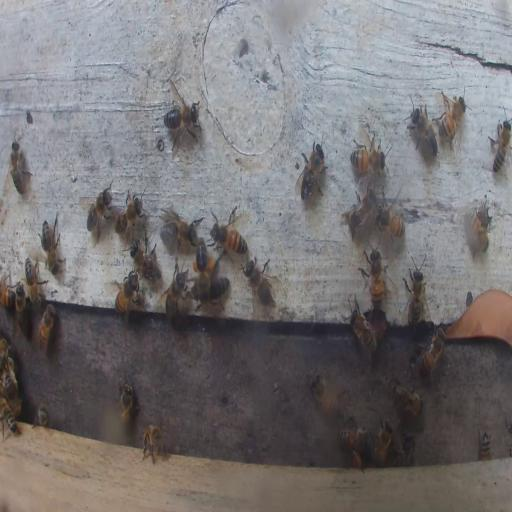nonpollenbee: (406, 97, 440, 163), (348, 294, 378, 362), (295, 139, 327, 199), (162, 99, 201, 147), (210, 208, 246, 258), (438, 92, 468, 151), (415, 325, 447, 380), (404, 254, 427, 329), (341, 186, 375, 236), (85, 184, 113, 240), (488, 114, 512, 178), (114, 187, 144, 236), (466, 199, 492, 255), (130, 236, 162, 281), (40, 215, 64, 275), (163, 264, 187, 322), (376, 192, 406, 238), (243, 257, 272, 304), (391, 378, 424, 416), (160, 213, 200, 244), (9, 140, 31, 195), (114, 270, 140, 316), (366, 247, 384, 310), (310, 375, 335, 417), (372, 417, 394, 464), (337, 424, 371, 454), (37, 302, 56, 352), (24, 256, 43, 306), (142, 424, 164, 466), (349, 148, 386, 172), (119, 380, 136, 424), (0, 402, 18, 438), (205, 278, 228, 306), (397, 433, 415, 464), (1, 341, 13, 386), (3, 376, 19, 408), (15, 284, 27, 325), (479, 430, 492, 460), (2, 278, 15, 306), (35, 403, 49, 427)
pollenbee: (192, 237, 214, 302)
